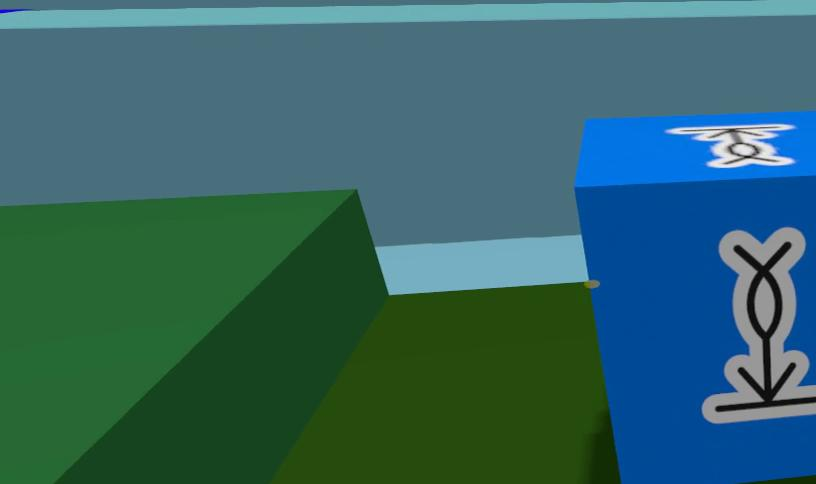KFS_REAL: (574, 111, 816, 484), (702, 228, 816, 423), (666, 123, 794, 166)
